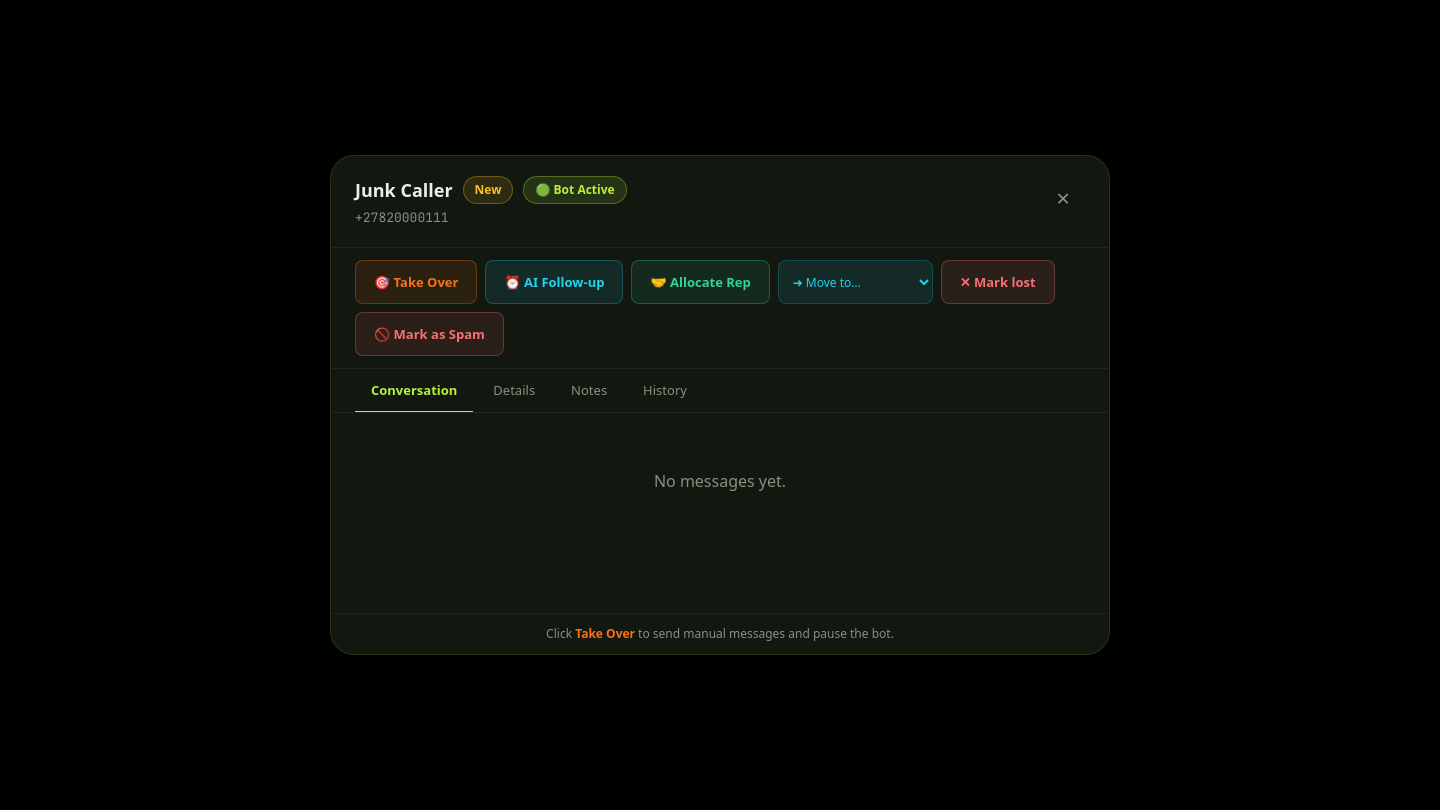
Test case: LeadDetailModal — the actions that destroy state › spam › disarms the confirm when the button loses focus
Click the button "🚫 Mark as Spam": (429, 334) [355,312,504,356]
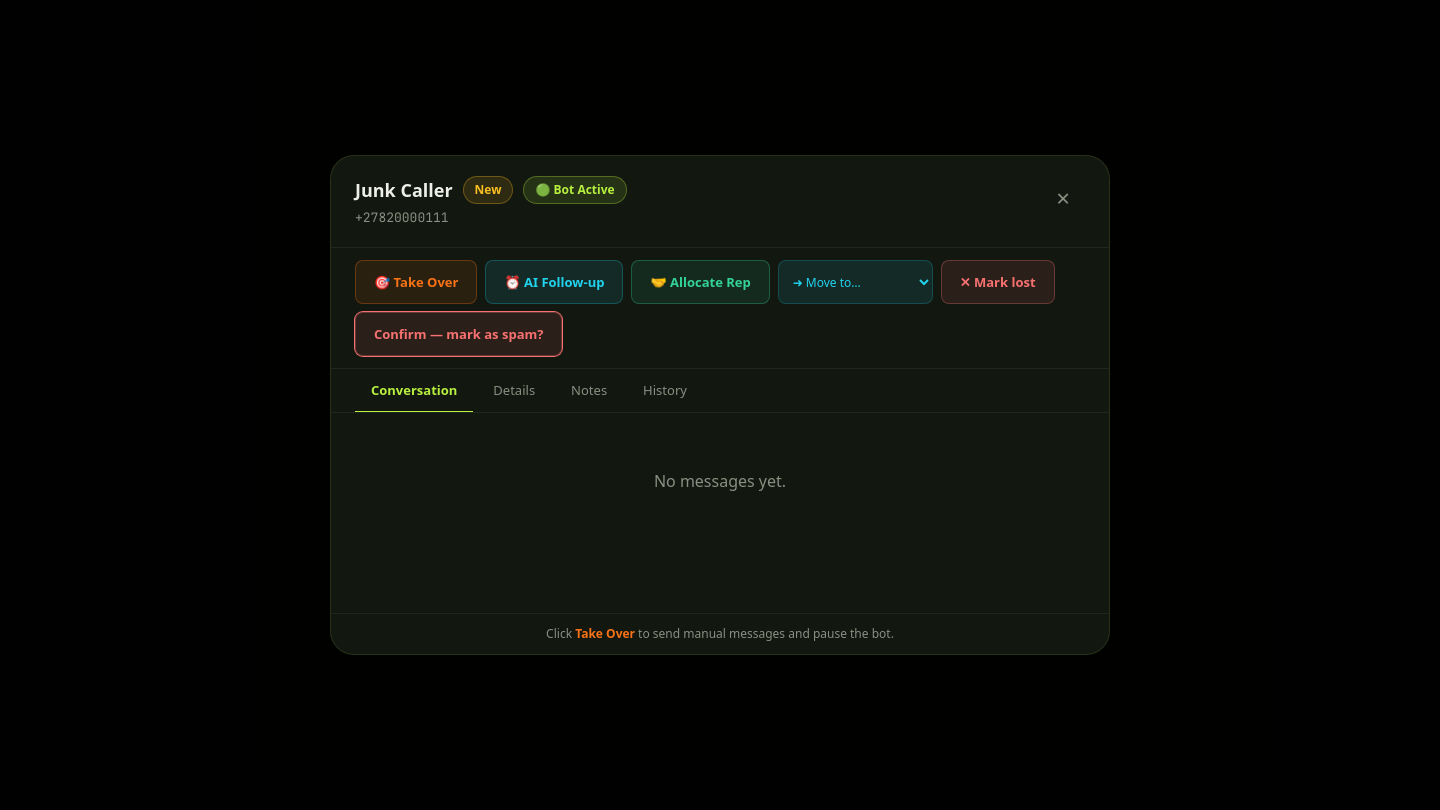
Now the button "Confirm — mark as spam?" is shown
Leave the button "Confirm — mark as spam?", box [355,312,562,356]
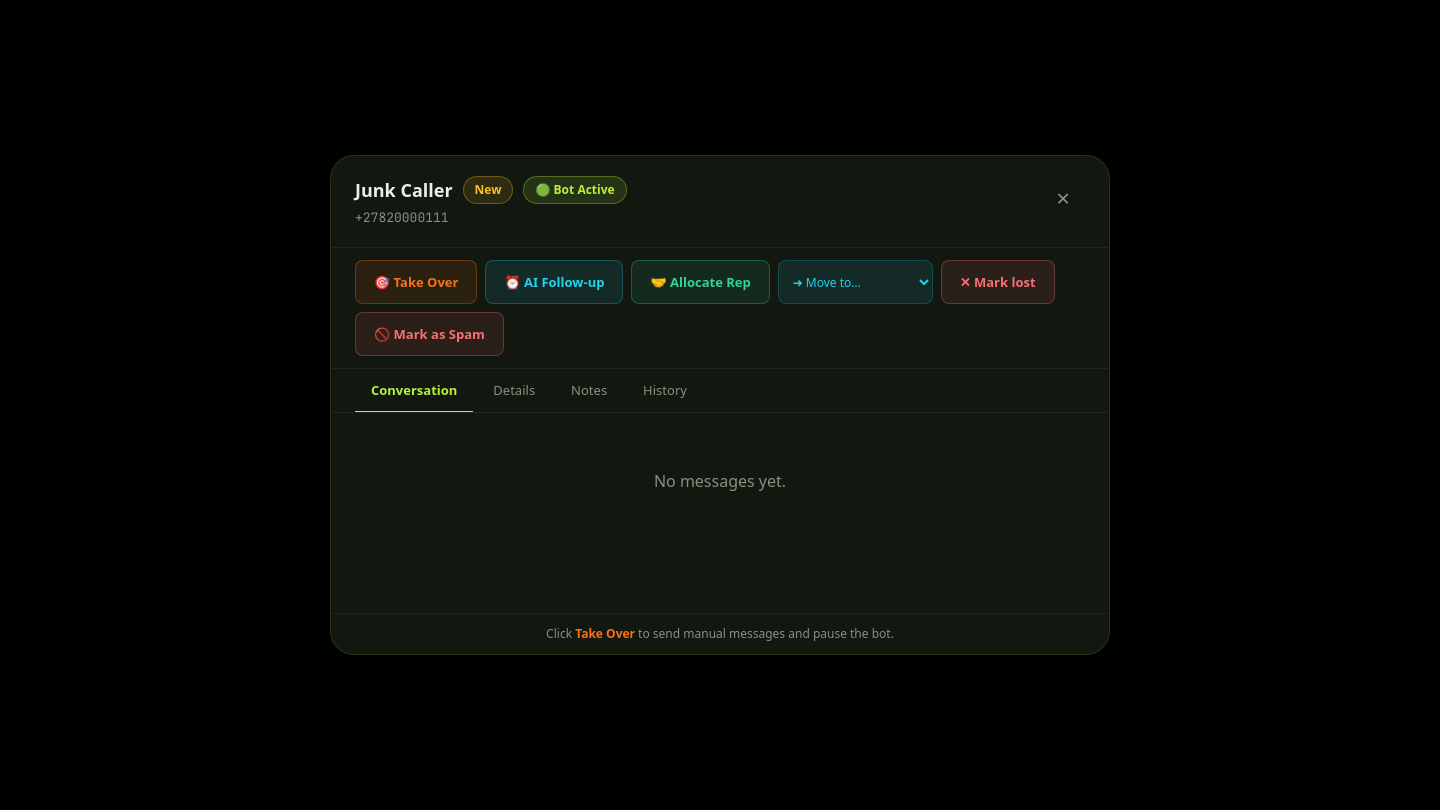
Expected: the button "🚫 Mark as Spam" is shown, [355,312,504,356]
Now the button "Confirm — mark as spam?" is gone
